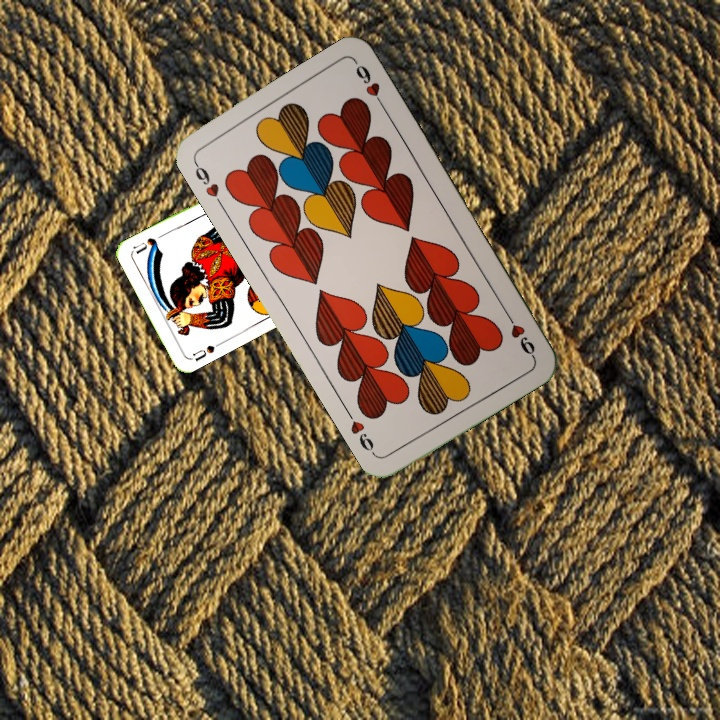H9: (500, 307, 538, 360), (189, 157, 227, 210)
SU: (189, 341, 217, 364)
